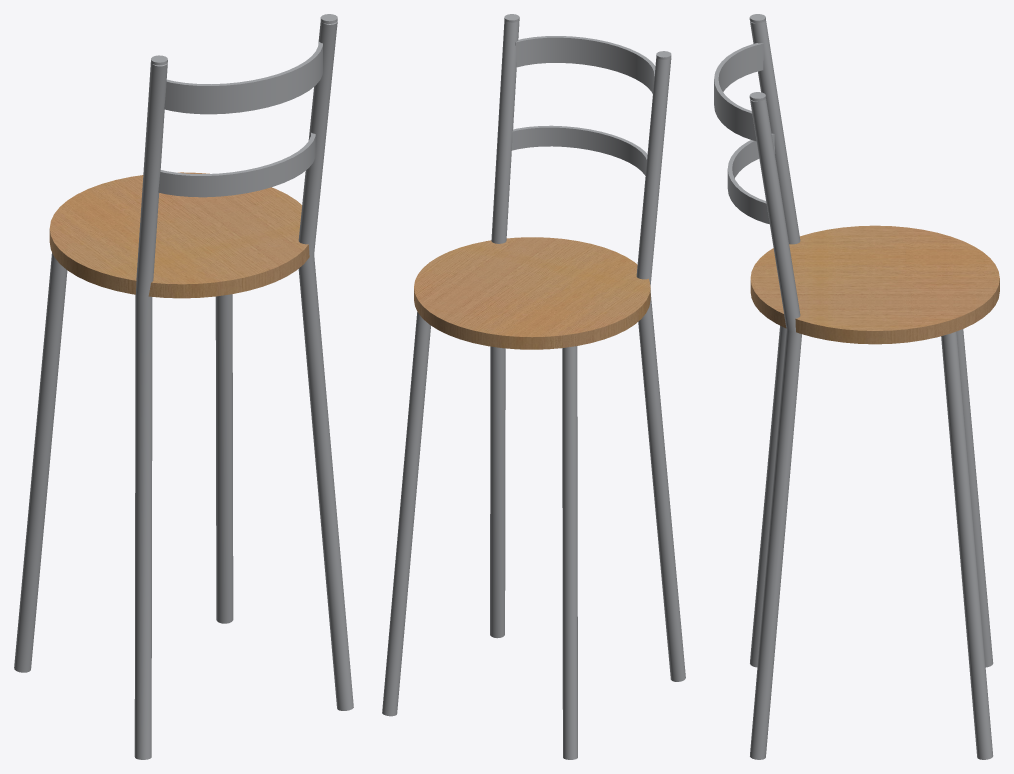
The model's file is recrpPHLbVDfSp3C2_chene.glb.
The picture shows the model from 3 angles, left to right: view 1: azimuth 30°, elevation 25°; view 2: azimuth 150°, elevation 25°; view 3: azimuth 270°, elevation 25°; orthographic projection. The views are drawn at different scales.
Parts seen in each view (by area): view 1: Tabouret_Bar_1_Corps; view 2: Tabouret_Bar_1_Corps; view 3: Tabouret_Bar_1_Corps.
Part boxes in pixels (left/top/right/bottom): Tabouret_Bar_1_Corps: left=14, top=14, right=353, bottom=759; Tabouret_Bar_1_Corps: left=382, top=14, right=685, bottom=759; Tabouret_Bar_1_Corps: left=714, top=14, right=999, bottom=759.
Size of the model in its own units: 0.34 by 0.985 by 0.3896.
2 materials, 1 textured.
